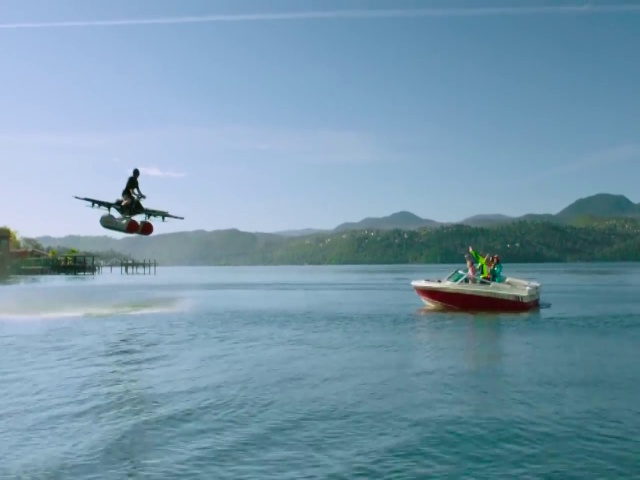drone: (72, 194, 187, 237)
